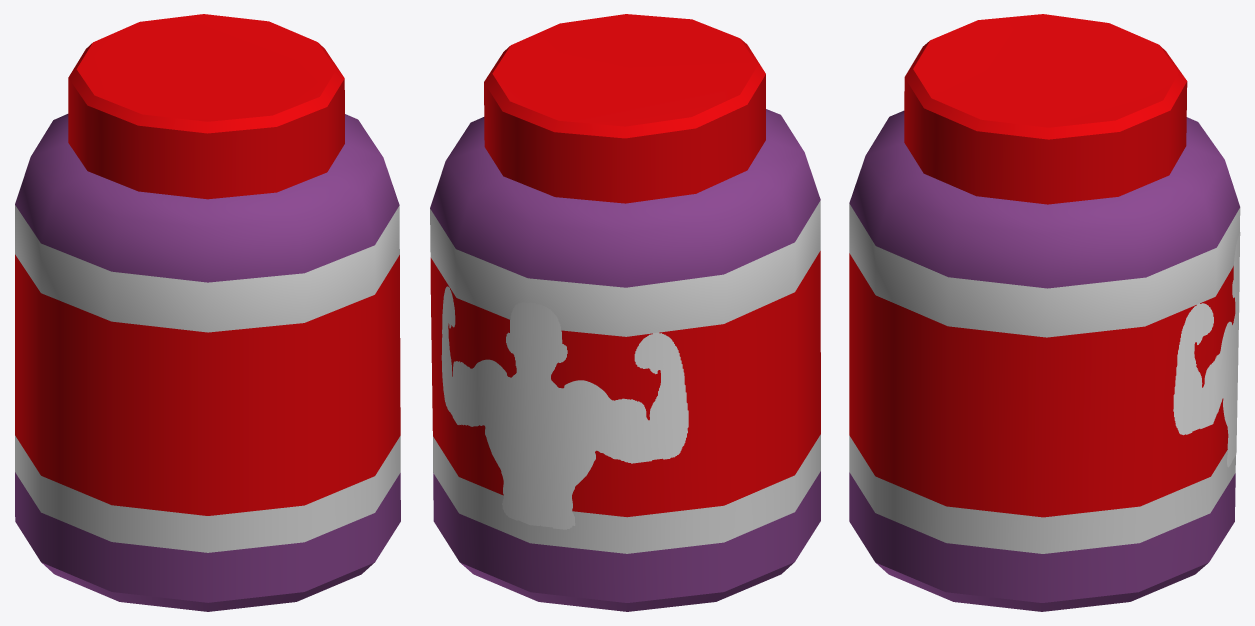
Rendered from gainer.fbx.
The picture shows the model from 3 angles, left to right: view 1: azimuth 30°, elevation 25°; view 2: azimuth 150°, elevation 25°; view 3: azimuth 270°, elevation 25°; orthographic projection.
Parts seen in each view (by area): view 1: Hypercasual_Gym_Supply; view 2: Hypercasual_Gym_Supply; view 3: Hypercasual_Gym_Supply.
Part boxes in pixels (left/top/right/bottom): Hypercasual_Gym_Supply: left=15, top=14, right=400, bottom=611; Hypercasual_Gym_Supply: left=430, top=14, right=820, bottom=611; Hypercasual_Gym_Supply: left=849, top=14, right=1240, bottom=611.
Bounding box in the file's own units: 0.5806 × 0.7804 × 0.5896.
